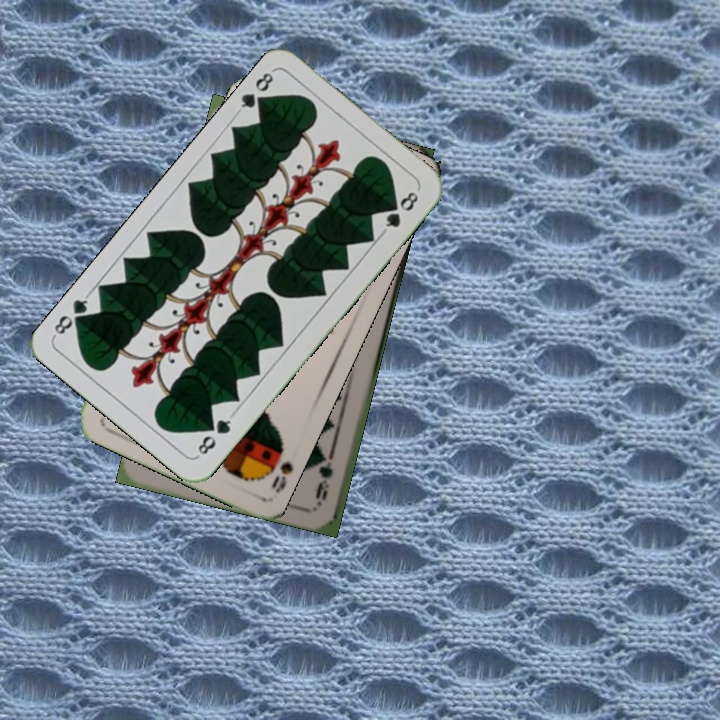G8: (233, 66, 276, 116), (193, 410, 236, 459)
G9: (311, 448, 337, 507)
SO: (262, 437, 296, 496)
